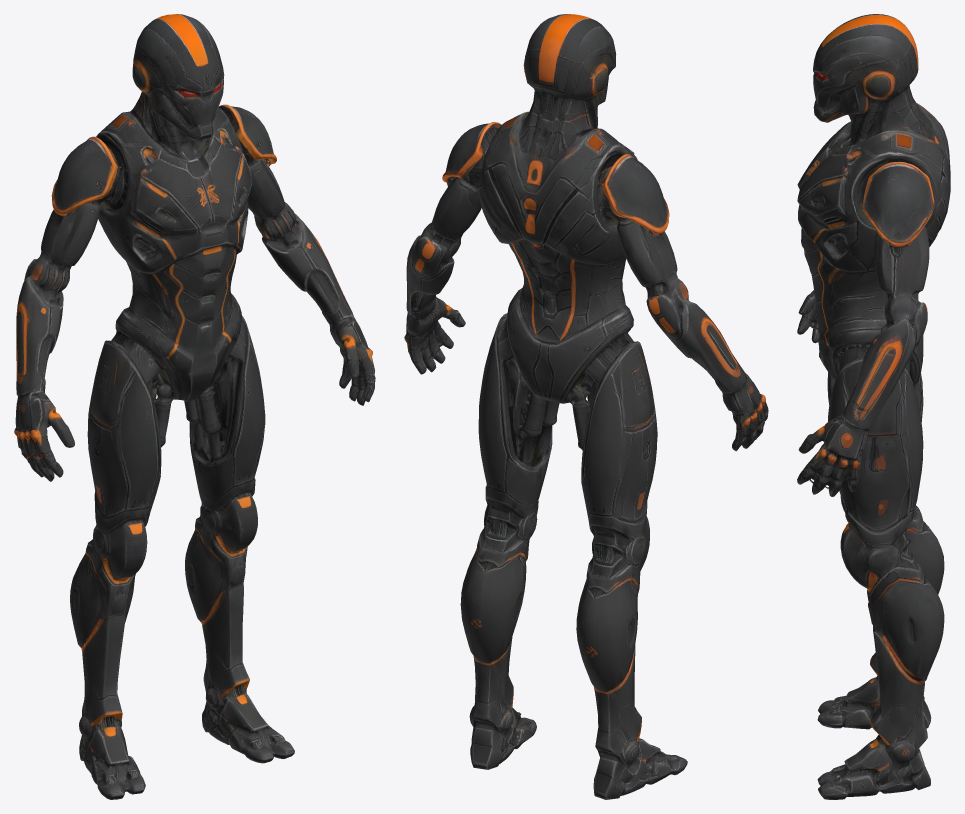
File: raider.fbx
3 renders of one model, left to right at view 1: azimuth 30°, elevation 25°; view 2: azimuth 150°, elevation 25°; view 3: azimuth 270°, elevation 25°, orthographic.
Visible parts, largest first — view 1: Mesh_0; view 2: Mesh_0; view 3: Mesh_0.
Boxes of the visible parts, x1,y1,x2,y2 form: Mesh_0: [14, 14, 375, 799]; Mesh_0: [404, 14, 768, 799]; Mesh_0: [797, 14, 950, 799].
Bounding box in the file's own units: 93.24 × 191 × 36.11.
1 material, 1 textured.
